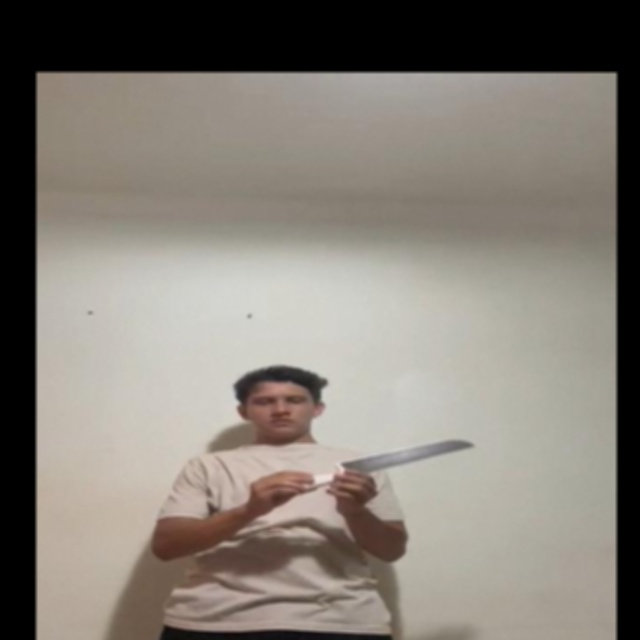Sharp-Object: (338, 437, 481, 468)
